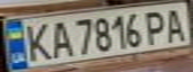1: (109, 11, 130, 50)
6: (124, 10, 148, 47)
7: (69, 16, 93, 55)
8: (90, 14, 112, 52)
A: (45, 17, 75, 59), (160, 6, 190, 43)
K: (21, 19, 54, 62)
P: (142, 7, 172, 46)
